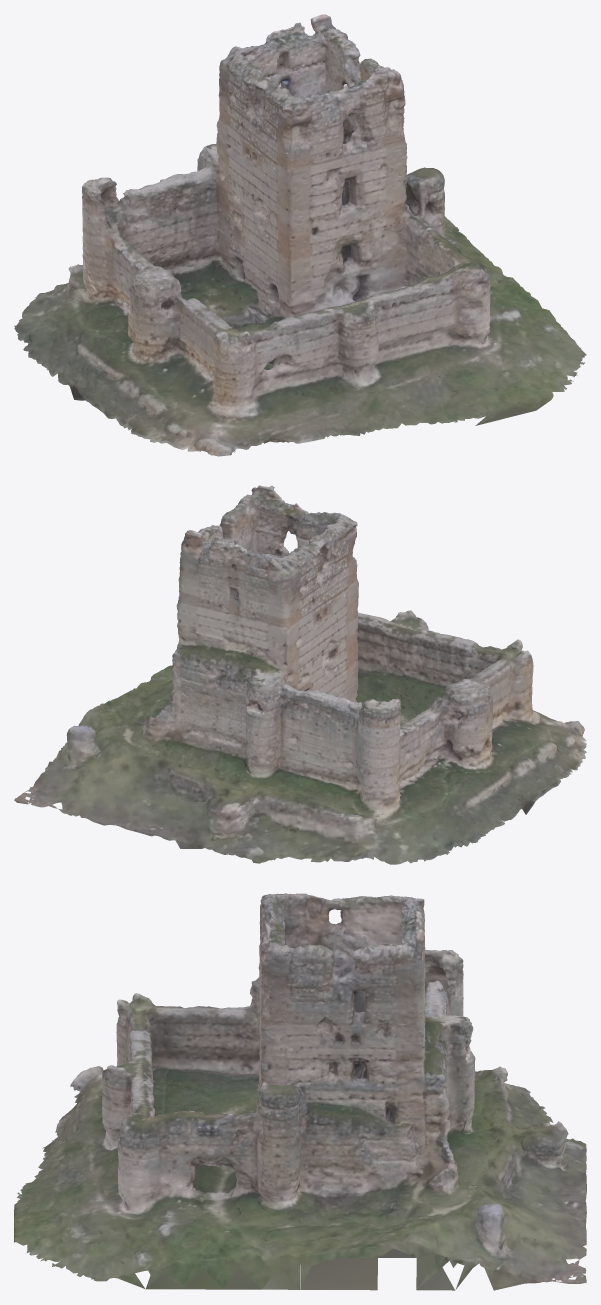
File: castillo.glb
3 views of the same model, one above another, from view 1: azimuth 30°, elevation 25°; view 2: azimuth 150°, elevation 25°; view 3: azimuth 270°, elevation 25° (orthographic). The views are drawn at different scales.
Visible parts, largest first — view 1: Object_2, Object_3; view 2: Object_2, Object_3; view 3: Object_2, Object_3.
Part boxes in pixels (x1,y1,x2,y2): Object_2: [32, 25, 586, 456]; Object_3: [14, 14, 545, 420]; Object_2: [69, 486, 586, 855]; Object_3: [14, 485, 562, 864]; Object_2: [14, 898, 586, 1289]; Object_3: [172, 893, 586, 1290].
Size of the model in its own units: 1.79 by 1.11 by 1.93.
1 material, 1 textured.
